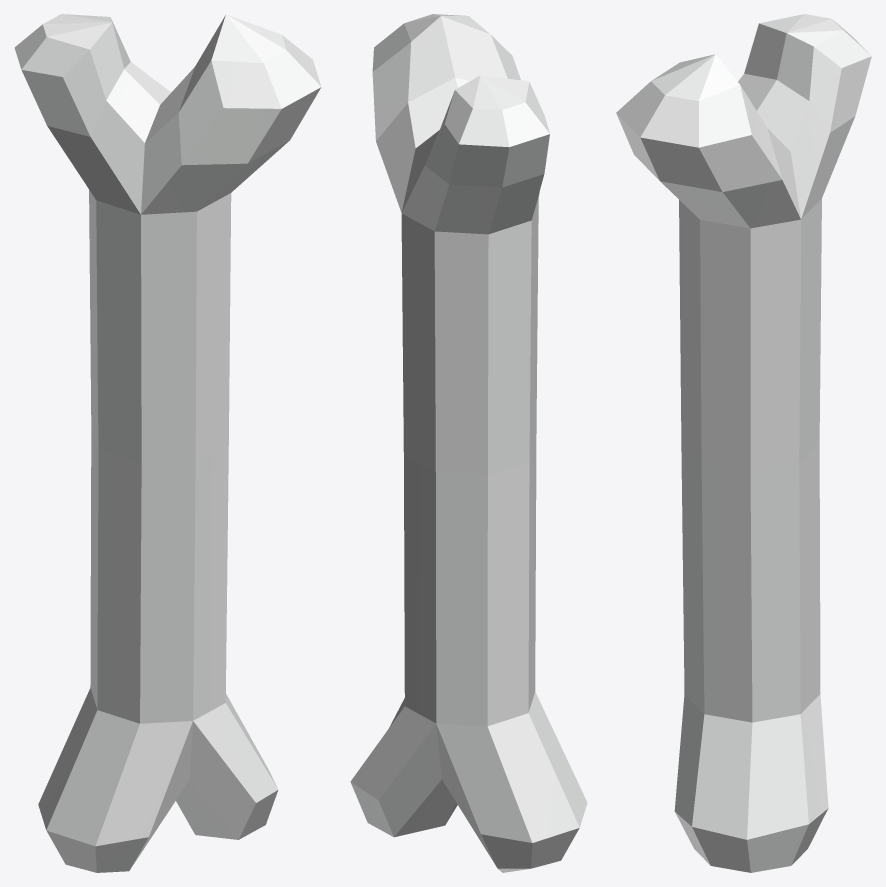
Rendered from Bone.fbx.
3 renders of one model, left to right at view 1: azimuth 30°, elevation 25°; view 2: azimuth 150°, elevation 25°; view 3: azimuth 270°, elevation 25°, orthographic. The views are drawn at different scales.
Parts seen in each view (by area): view 1: Sphere; view 2: Sphere; view 3: Sphere.
Boxes of the visible parts, x1=… form: Sphere: x1=14, y1=14, x2=321, y2=872; Sphere: x1=350, y1=14, x2=587, y2=872; Sphere: x1=616, y1=14, x2=871, y2=872.
Size of the model in its own units: 237 by 802 by 225.
